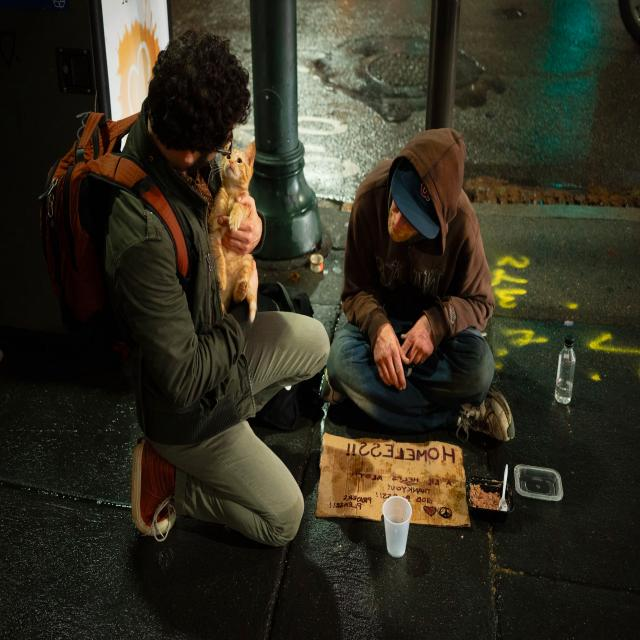adult: (93, 13, 336, 576), (319, 113, 525, 450)
